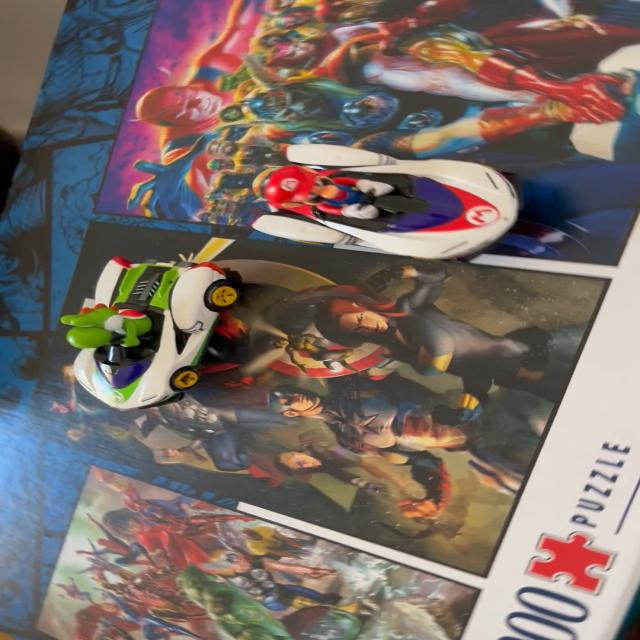mario: (240, 155, 548, 267)
yoshi: (46, 244, 254, 427)
